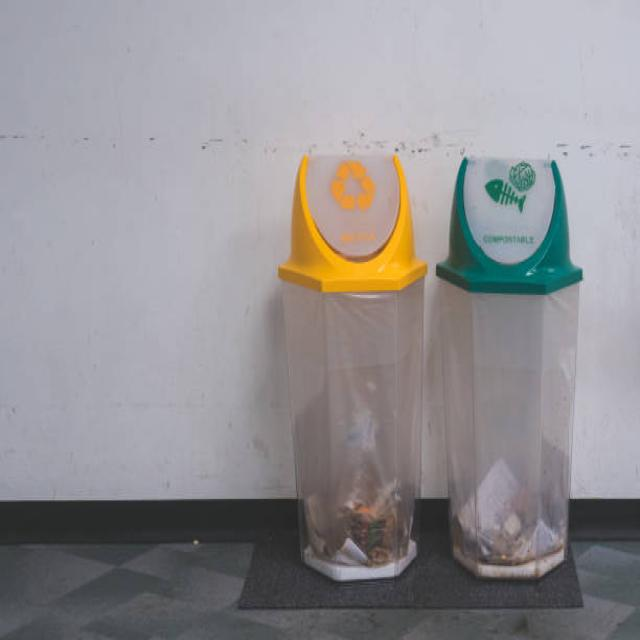plastic: (251, 121, 621, 577)
